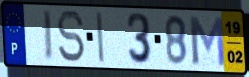3: (126, 11, 154, 67)
8: (163, 14, 188, 68)
I: (41, 8, 54, 63), (95, 10, 106, 65)
M: (187, 14, 227, 69)
S: (55, 9, 87, 64)
